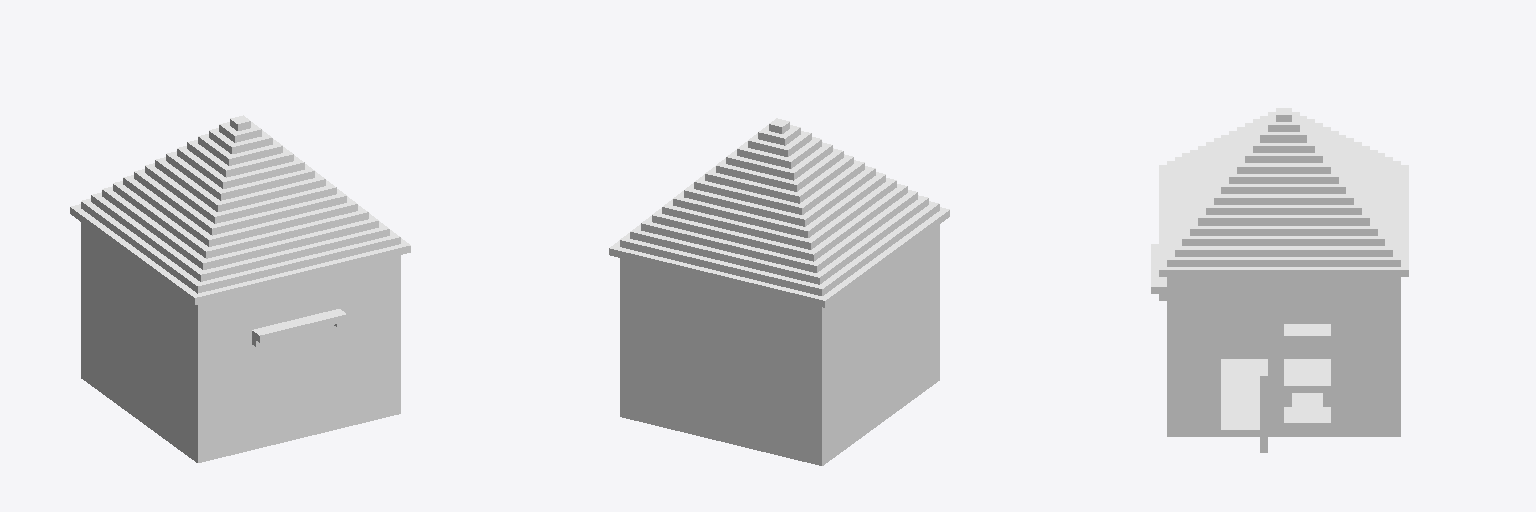
File: house_gole.obj
3 renders of one model, left to right at view 1: azimuth 30°, elevation 25°; view 2: azimuth 150°, elevation 25°; view 3: azimuth 270°, elevation 25°, orthographic.
Visible parts, largest first — view 1: object 1; view 2: object 1; view 3: object 1.
Part boxes in pixels (x1,y1,x2,y2): object 1: (70,115,410,462); object 1: (609,118,949,465); object 1: (1151,108,1408,452).
Bounding box in the file's own units: 3.6 × 3.9 × 3.3.